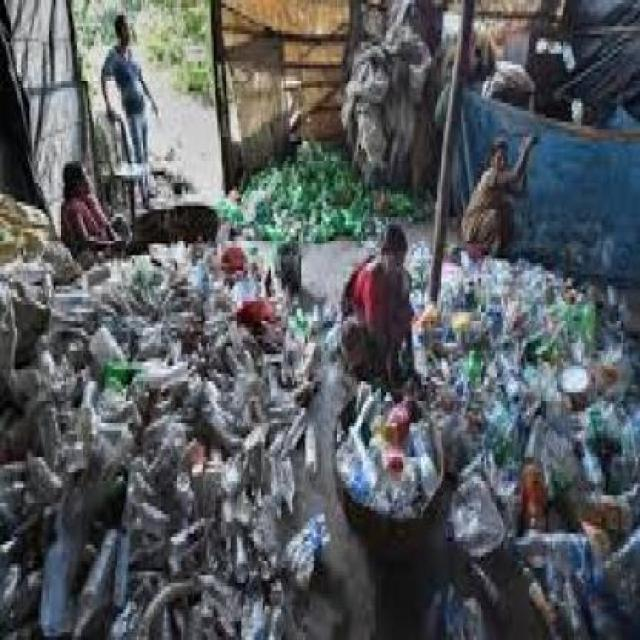garbage: (0, 225, 324, 636), (413, 240, 639, 632), (331, 369, 464, 540), (220, 137, 429, 217)
